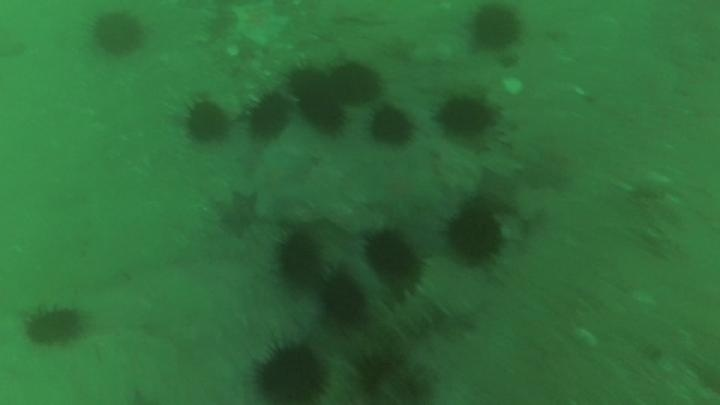echinus: (250, 340, 330, 404), (353, 349, 436, 404), (444, 204, 506, 266), (289, 67, 347, 133), (362, 229, 422, 284), (274, 229, 325, 288), (22, 302, 85, 348), (435, 93, 496, 139), (468, 4, 524, 53), (89, 10, 146, 58), (319, 272, 368, 326), (327, 60, 383, 106), (245, 91, 293, 142), (182, 98, 230, 145), (368, 105, 415, 148), (286, 65, 332, 103)
holothurian: (377, 288, 453, 340)
starfish: (249, 143, 318, 217), (363, 161, 441, 221), (229, 2, 291, 49), (472, 165, 523, 217), (214, 188, 263, 238)
